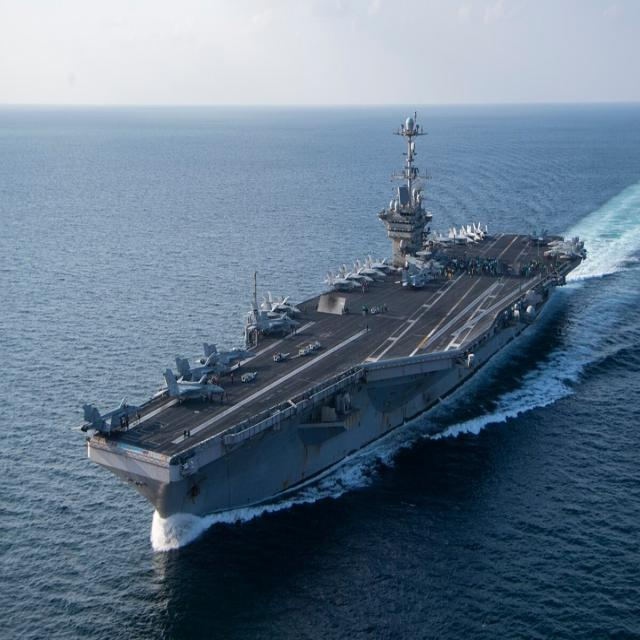Portanaves: (77, 114, 591, 559)
